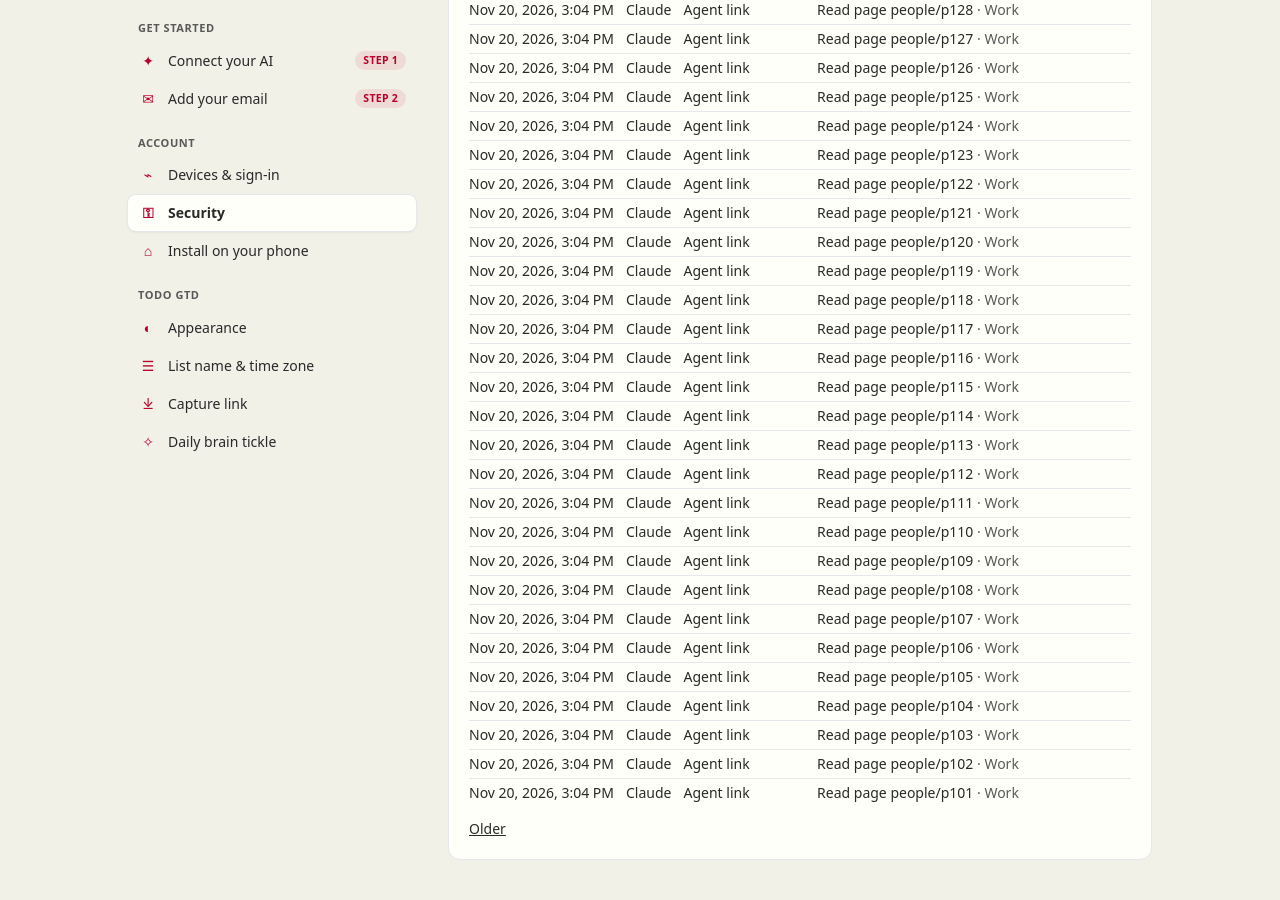
Test: Settings › lists the Common Brain reads under the switch, a page at a time, and says what the log is
This screenshot has width=1280, height=900.
(page scrolled)
Click the button "Older". click: [487, 829]
box: [469,819,506,839]
(page scrolled)
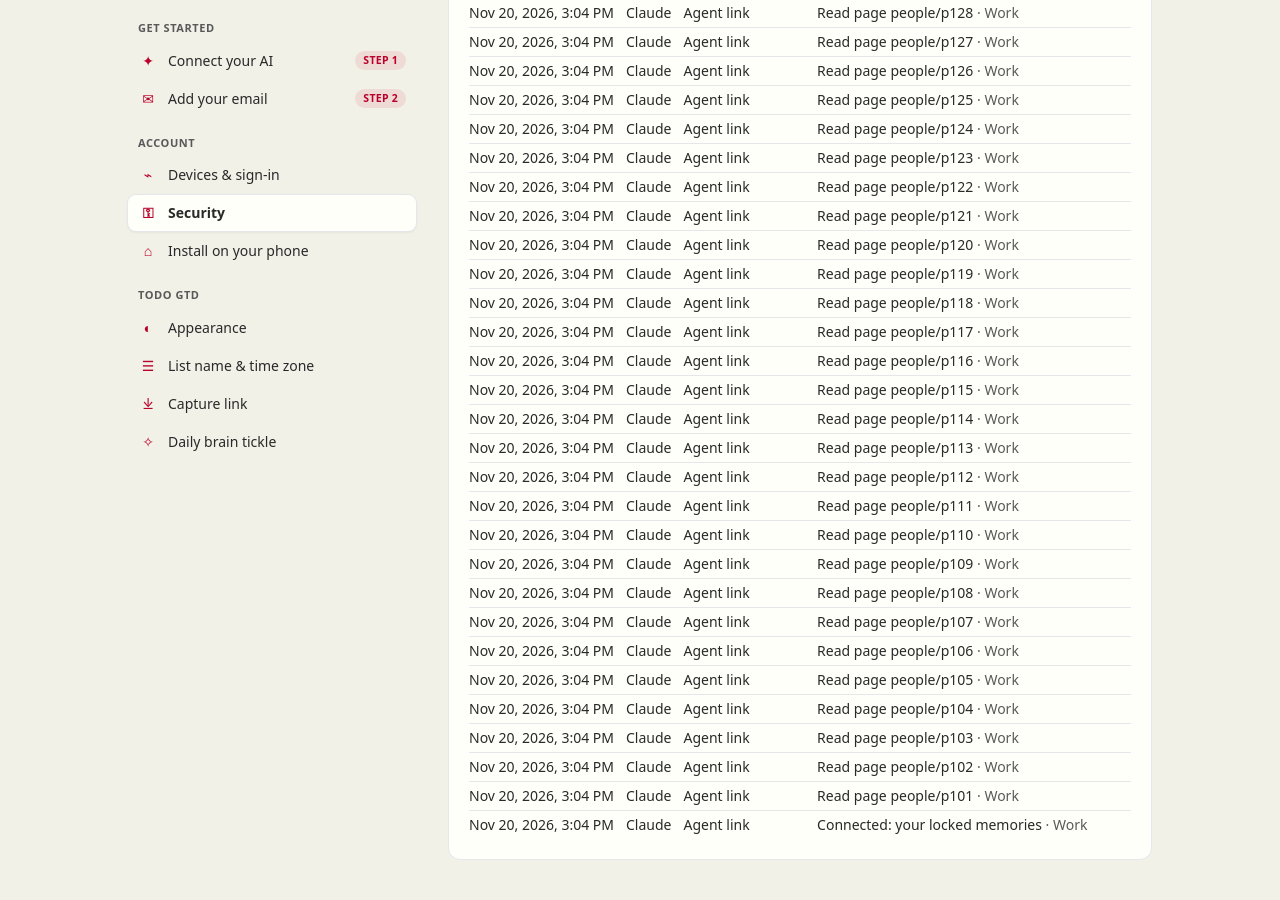
expect the cell "Connected: your locked memories · Work" is shown: met, box [817,810,1131,839]
